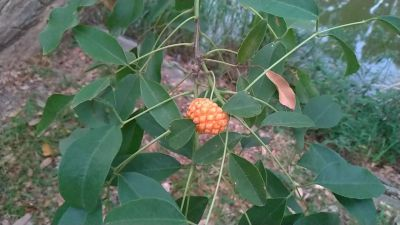eggs: (186, 95, 232, 139)
